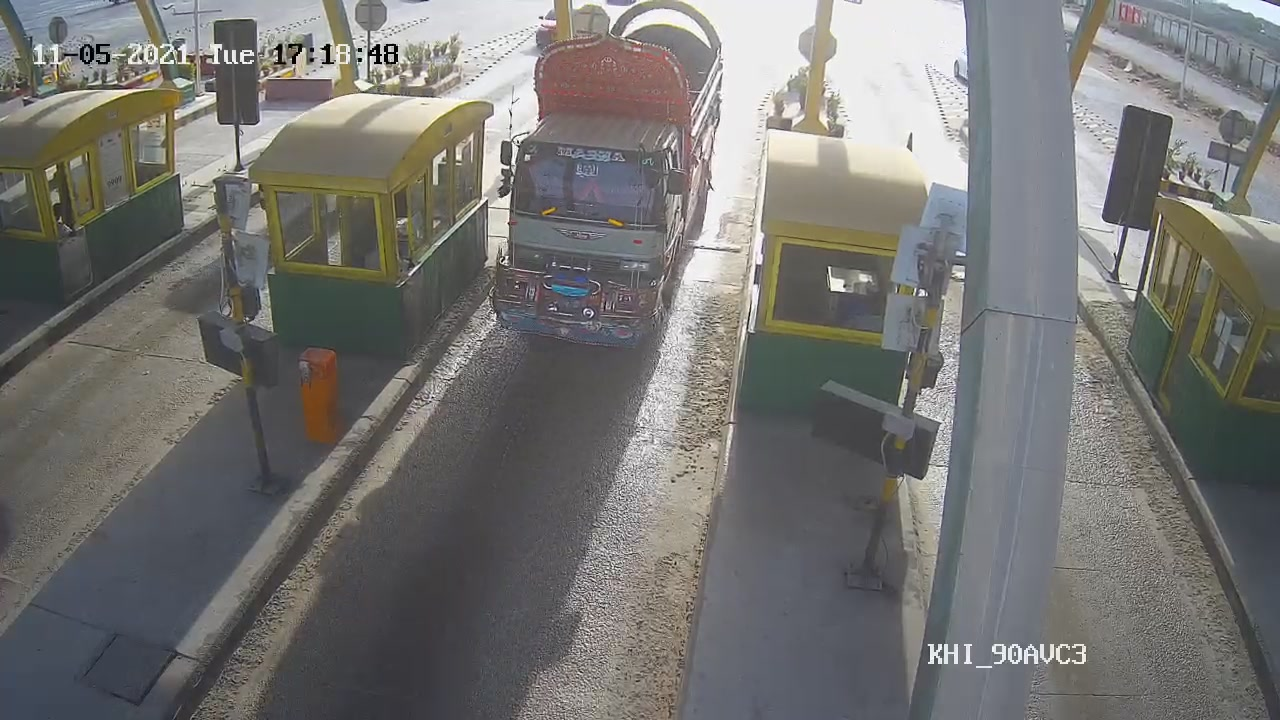F5: (499, 1, 725, 342)
